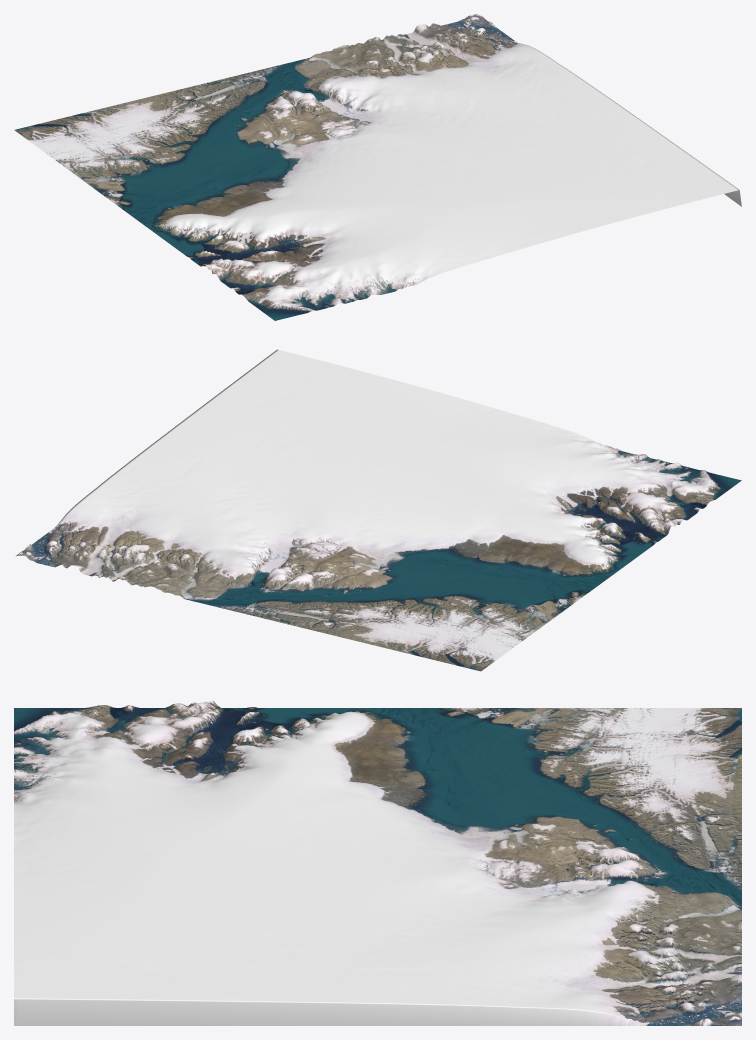
File: peter10_09.gltf
3 views of the same model, one above another, from view 1: azimuth 30°, elevation 25°; view 2: azimuth 150°, elevation 25°; view 3: azimuth 270°, elevation 25° (orthographic). The views are drawn at different scales.
Parts seen in each view (by area): view 1: MEASURES_Surf_Petermann; view 2: MEASURES_Surf_Petermann; view 3: MEASURES_Surf_Petermann.
Part boxes in pixels (box(x1,y1,x2,y2)): MEASURES_Surf_Petermann: box(14, 14, 741, 320); MEASURES_Surf_Petermann: box(16, 349, 741, 671); MEASURES_Surf_Petermann: box(14, 700, 741, 1025).
Bounding box in the file's own units: 601950 × 21830 × 582551.
Materials: 1 (1 with a texture image).
